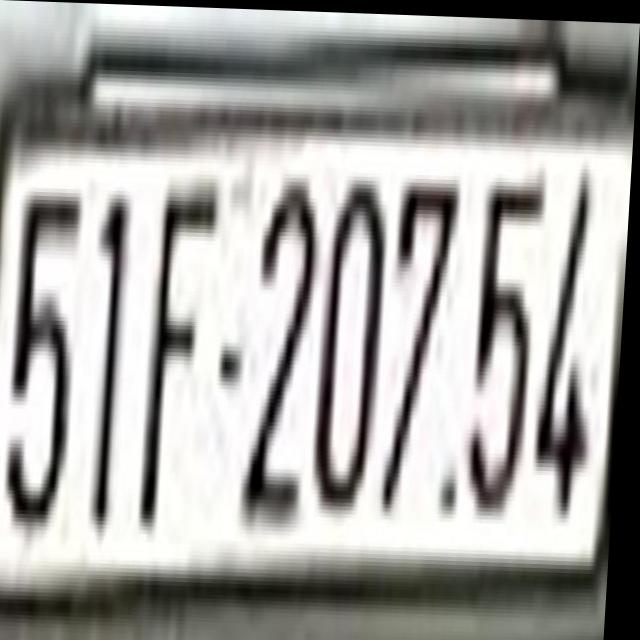0: (316, 157, 391, 512)
1: (87, 166, 137, 540)
2: (244, 167, 323, 538)
4: (540, 156, 609, 530)
5: (4, 175, 88, 542), (466, 165, 545, 524)
7: (384, 159, 463, 526)
F: (143, 171, 224, 538)
